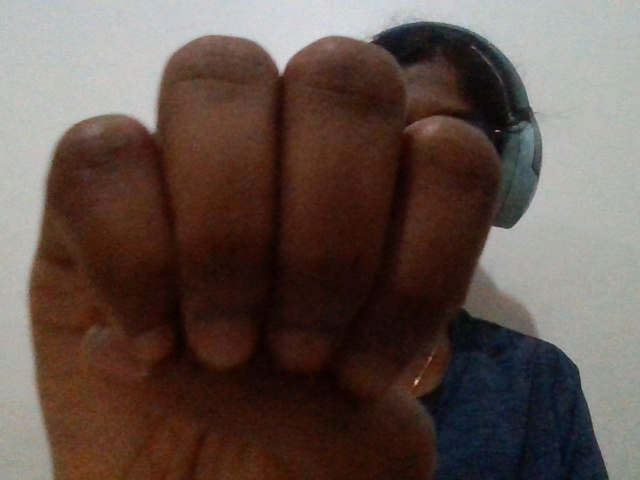E: (15, 27, 529, 475)
